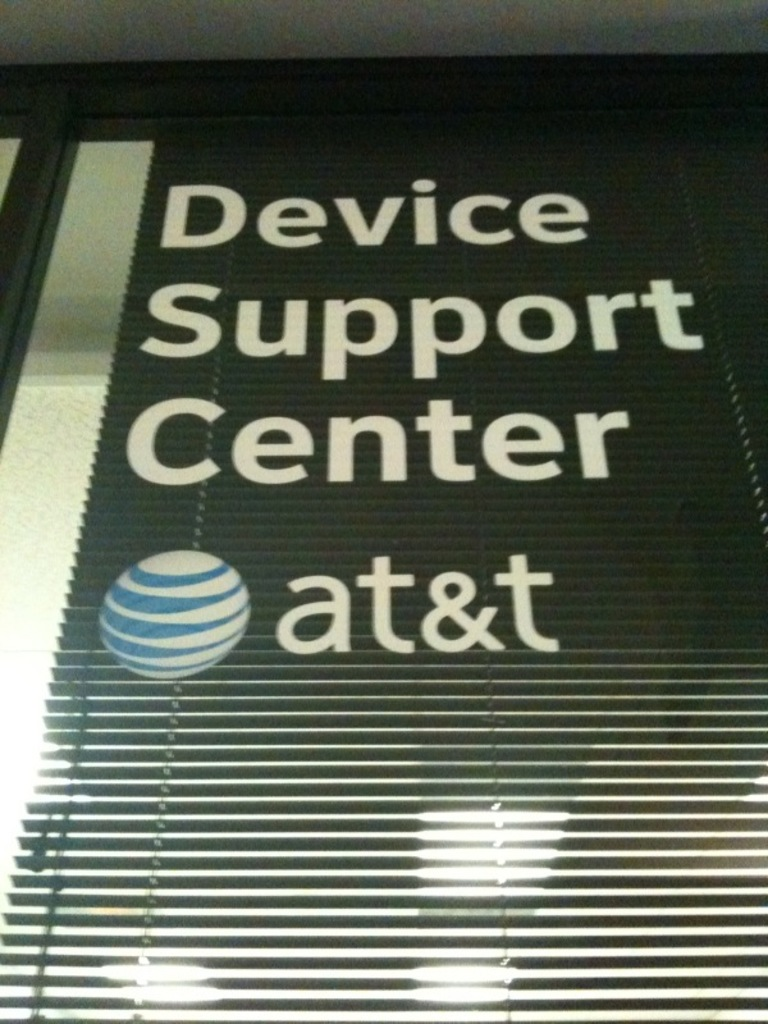Ball: (97, 553, 253, 681)
